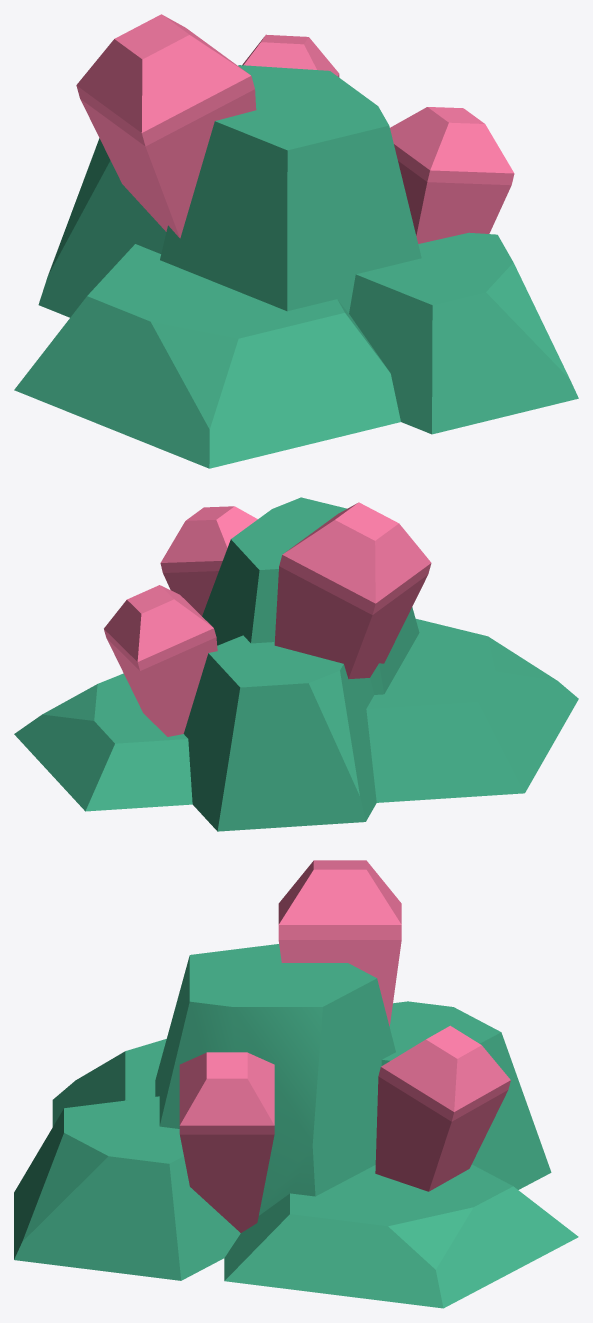
Rendered from d_kenney_cristal_grand.glb.
The picture shows the model from 3 angles, top to bottom: view 1: azimuth 30°, elevation 25°; view 2: azimuth 150°, elevation 25°; view 3: azimuth 270°, elevation 25°; orthographic projection. The views are drawn at different scales.
Parts seen in each view (by area): view 1: d_kenney_cristal_grand; view 2: d_kenney_cristal_grand; view 3: d_kenney_cristal_grand.
Part boxes in pixels (bbox=[...]): d_kenney_cristal_grand: bbox=[14, 14, 578, 468]; d_kenney_cristal_grand: bbox=[14, 497, 578, 831]; d_kenney_cristal_grand: bbox=[14, 860, 578, 1308].
Bounding box in the file's own units: 1 × 0.5565 × 1.
Materials: 1 (1 with a texture image).
